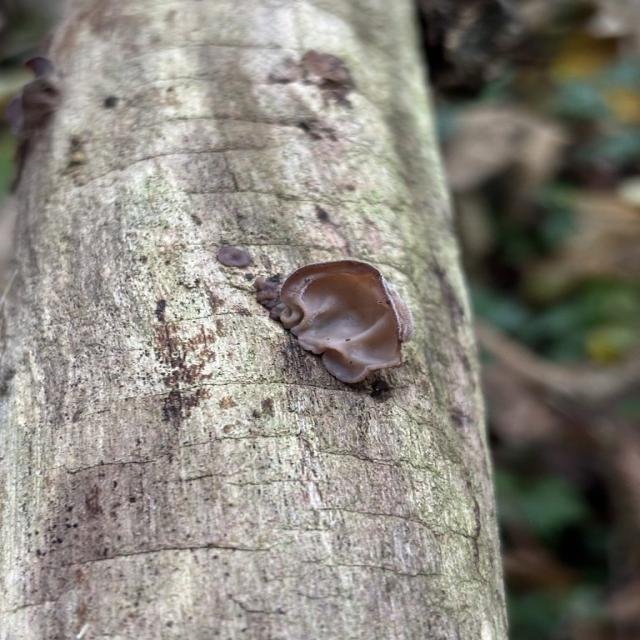Fase Muda: (272, 257, 422, 386)
